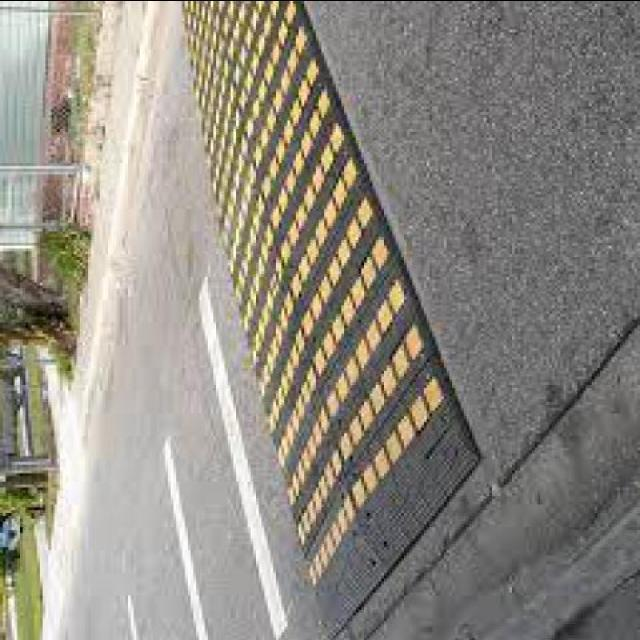Speed_Breaker: (163, 0, 494, 640), (184, 0, 478, 614)
